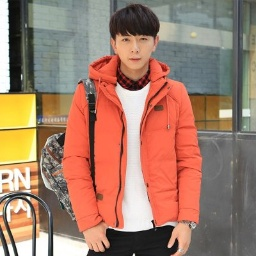face: (110, 4, 160, 72)
